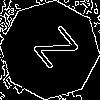Z: (25, 25, 80, 77)
